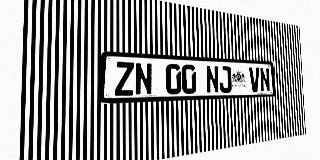0: (165, 64, 181, 95), (181, 64, 196, 94)
J: (219, 66, 232, 93)
N: (135, 62, 153, 95), (206, 65, 219, 93), (259, 68, 270, 92)
V: (249, 67, 260, 92)
Z: (115, 62, 134, 96)
